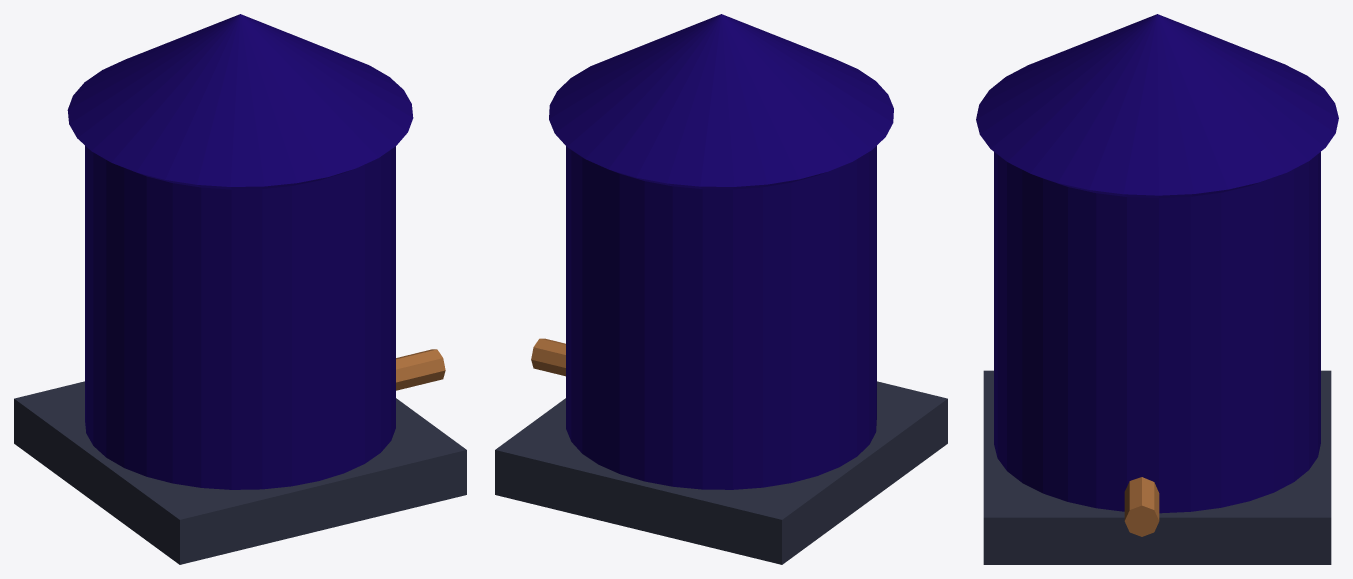
Rendered from fluid_storage_tank.fbx.
The picture shows the model from 3 angles, left to right: view 1: azimuth 30°, elevation 25°; view 2: azimuth 150°, elevation 25°; view 3: azimuth 270°, elevation 25°; orthographic projection. The views are drawn at different scales.
Parts seen in each view (by area): view 1: Cylinder, Plane.003, Cylinder.001; view 2: Cylinder, Plane.003, Cylinder.001; view 3: Cylinder, Plane.003, Cylinder.001.
Boxes of the visible parts, box(x1,y1,x2,y2) form: Cylinder: box(67, 14, 413, 489); Plane.003: box(14, 381, 466, 564); Cylinder.001: box(396, 349, 445, 390); Cylinder: box(549, 14, 893, 489); Plane.003: box(495, 381, 947, 564); Cylinder.001: box(531, 338, 565, 376); Cylinder: box(976, 14, 1338, 513); Plane.003: box(983, 370, 1331, 564); Cylinder.001: box(1124, 477, 1159, 536).
Size of the model in its own units: 118 by 152 by 104.
